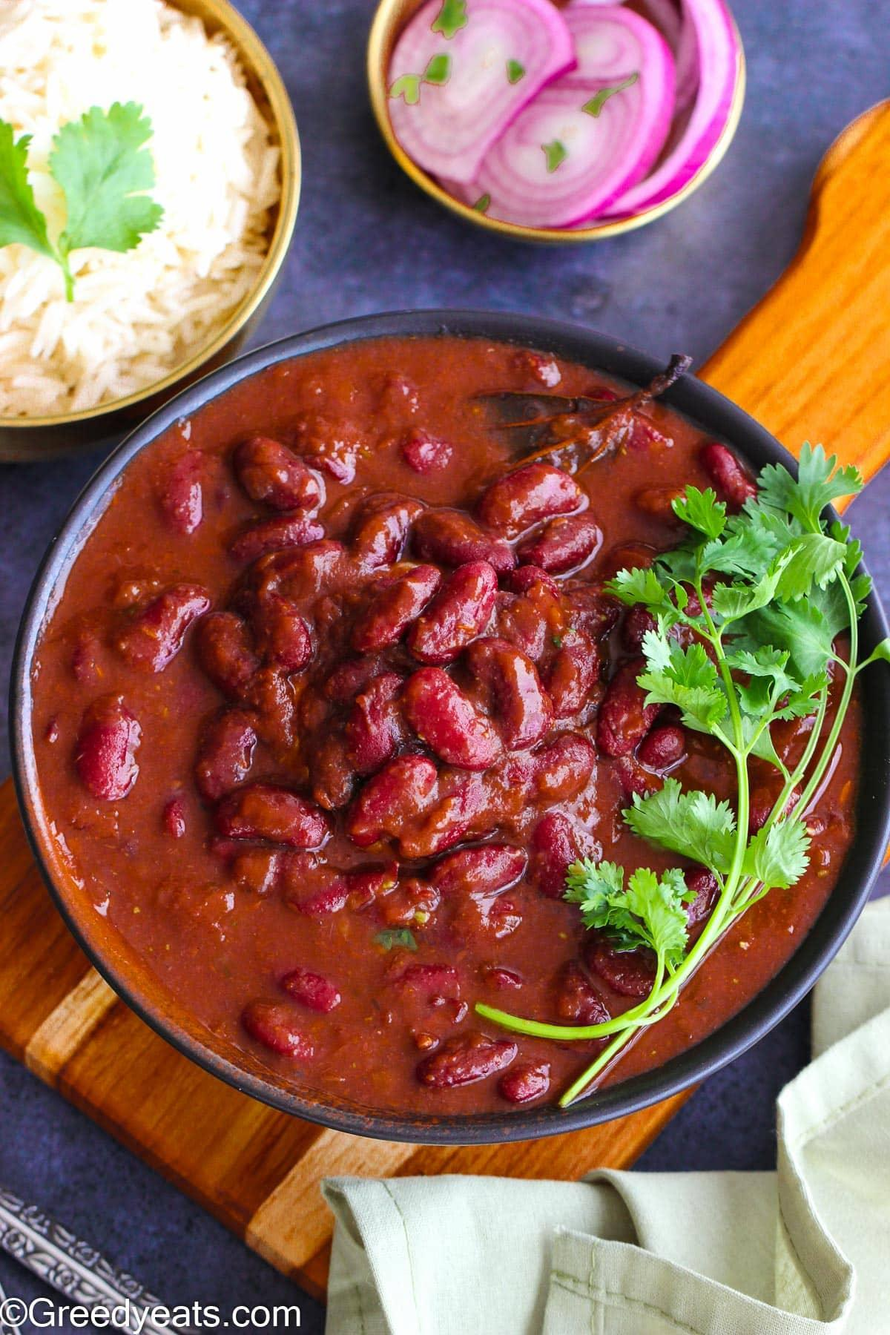rajma: (56, 434, 890, 1090)
rice: (0, 0, 289, 419)
